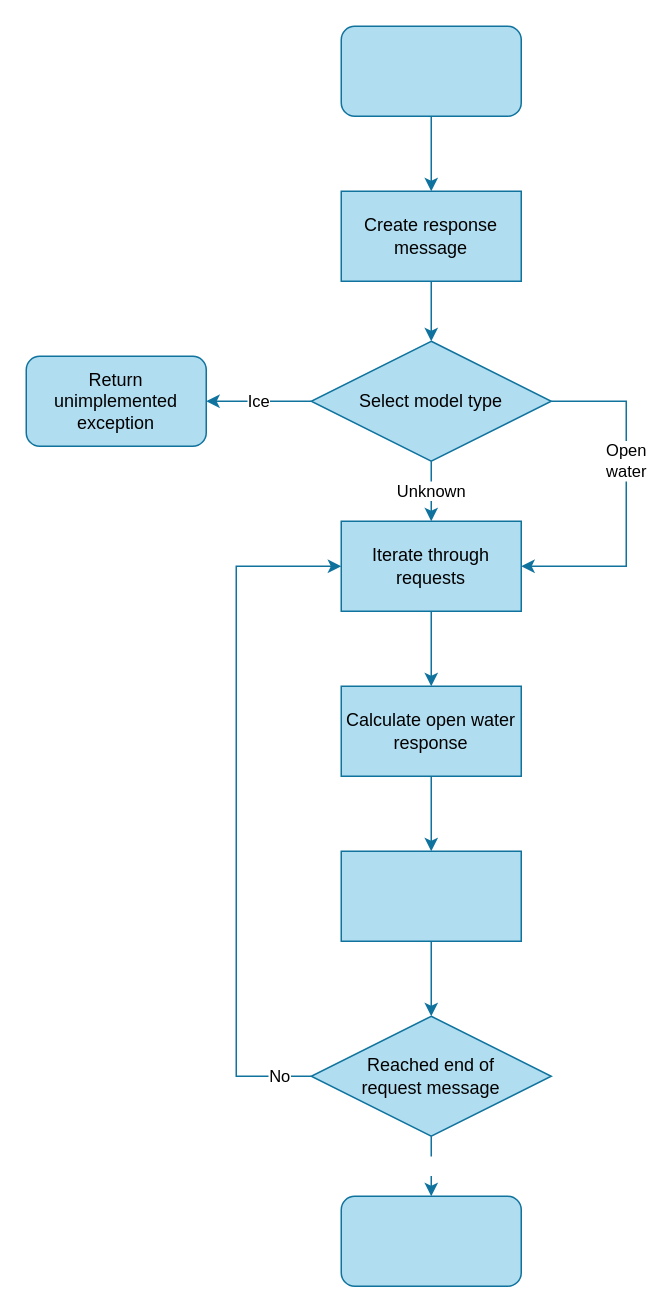
Image size: 672x1313. Some labels were removed from this diagram. The shapes that lost their labels are listed below. From the top down, each one's centre as x and y in pixels, then its label:
point 430,70: Receive request
point 430,895: Append to response message
point 430,1240: Return response
